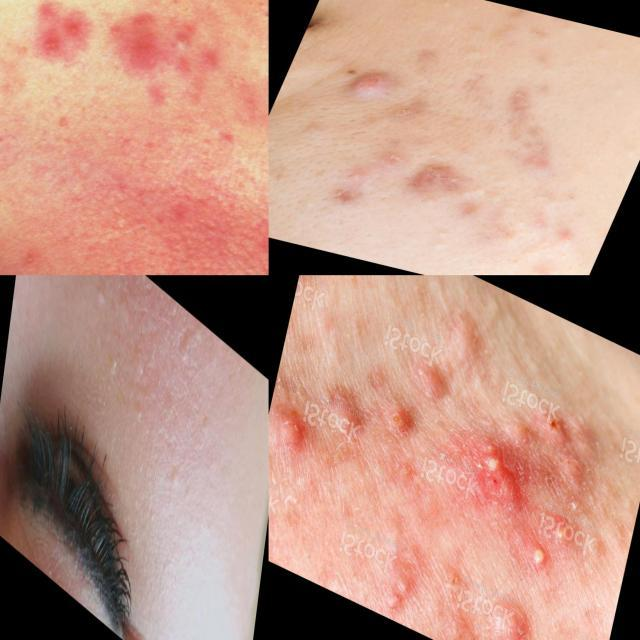Pimples: (465, 424, 535, 520), (25, 0, 114, 75), (488, 66, 566, 140), (316, 374, 376, 456), (478, 573, 548, 640), (268, 388, 310, 486), (558, 412, 605, 494), (331, 50, 408, 100), (380, 552, 428, 627), (406, 149, 466, 202), (538, 501, 584, 556), (386, 395, 424, 453), (158, 20, 208, 62), (534, 392, 568, 447), (520, 531, 558, 580), (90, 276, 110, 318)
